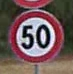limite 50: (9, 8, 64, 62)
